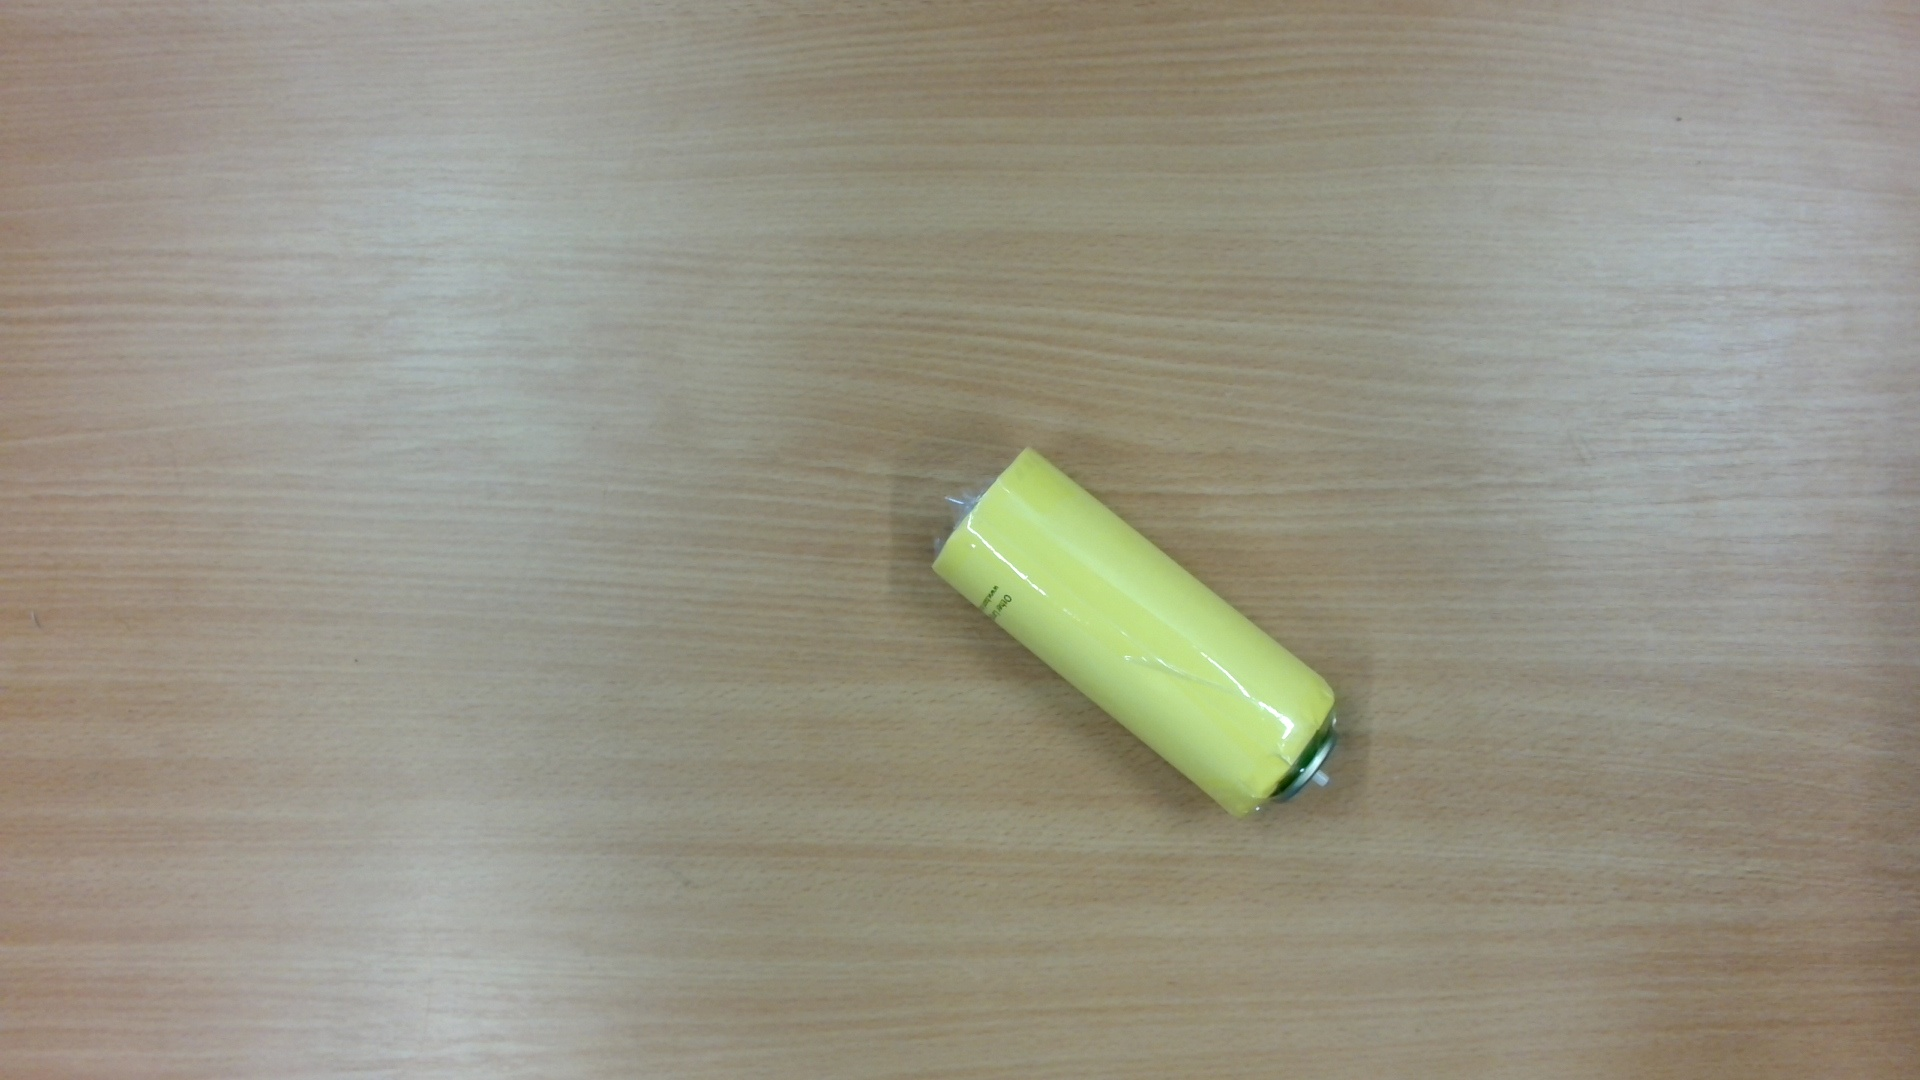Cylinder: (909, 433, 1365, 843)
